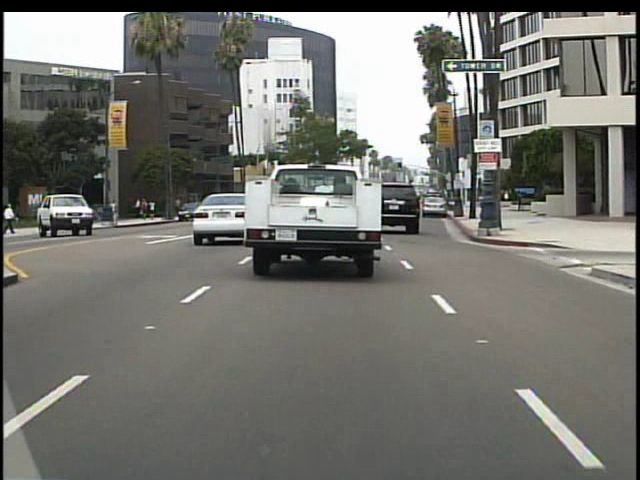person: (58, 199, 75, 234), (6, 199, 22, 236), (64, 192, 80, 229), (114, 197, 121, 225)
